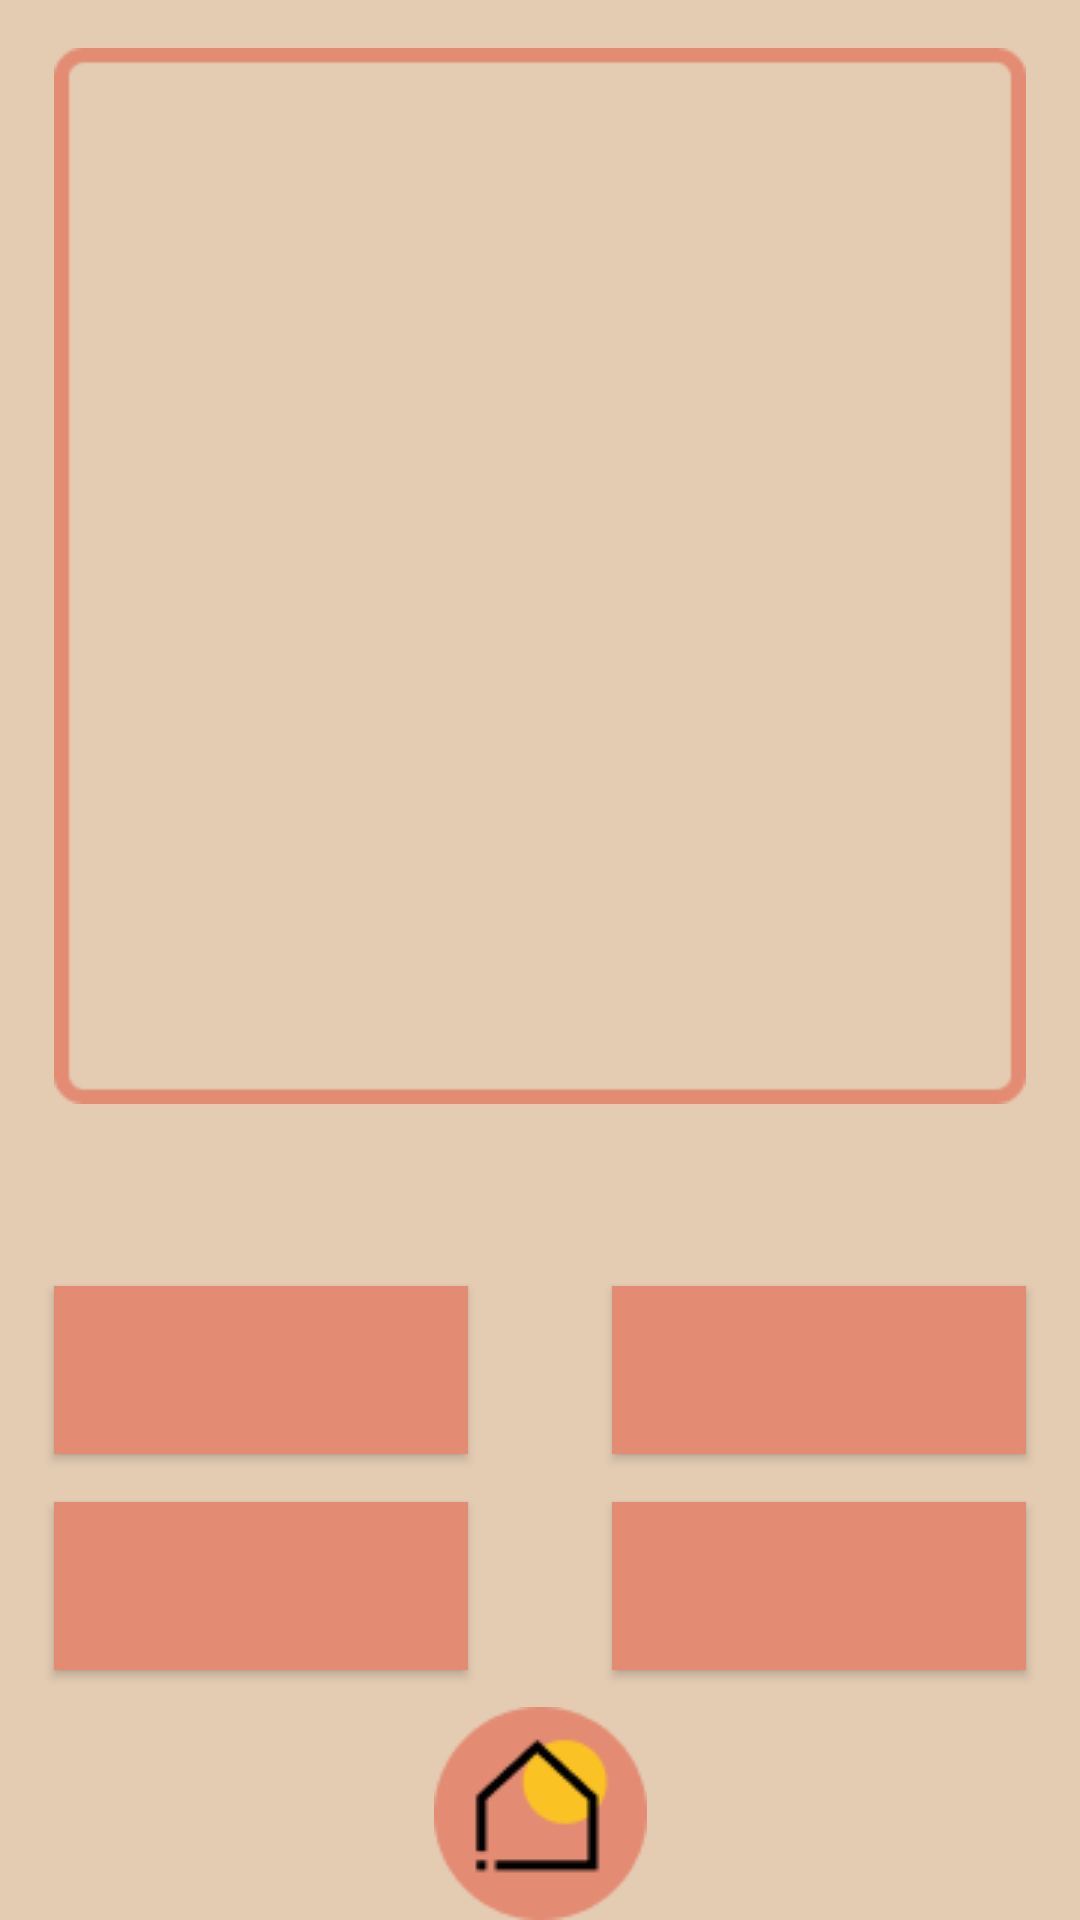

Point at icon controls on the screen. Image size 1080px×1920px, points as point (x, y).
home: point (540, 1813)
